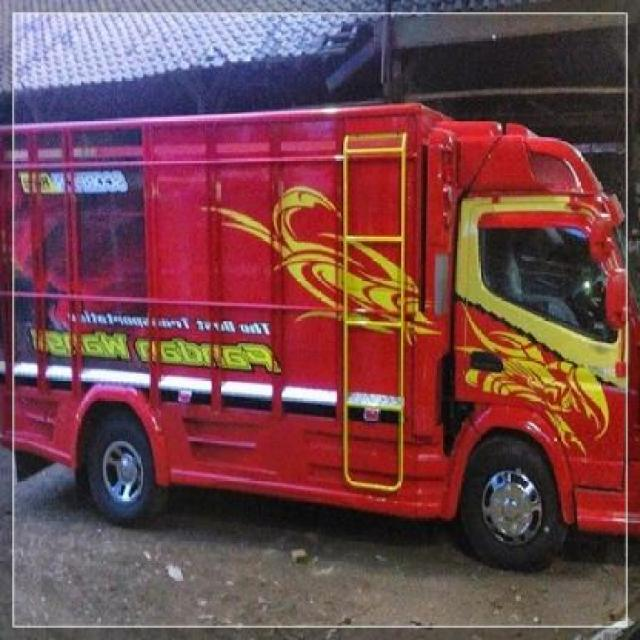truck: (1, 105, 639, 565)
